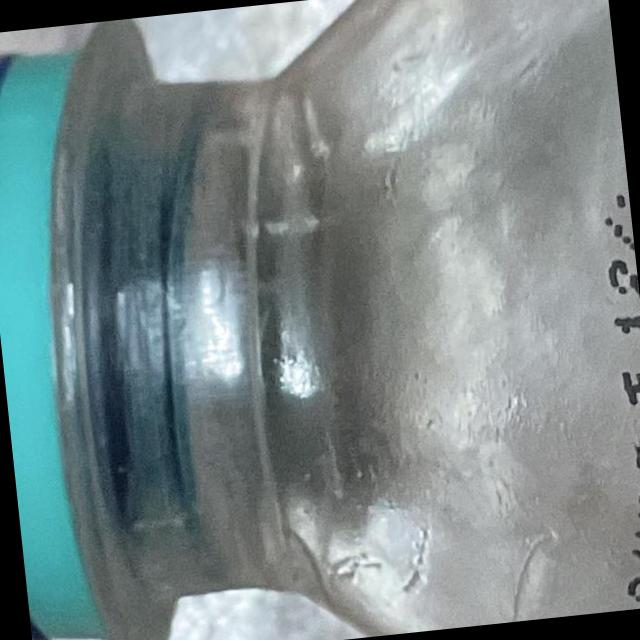Good-cap-Df0S: (0, 19, 185, 640)
